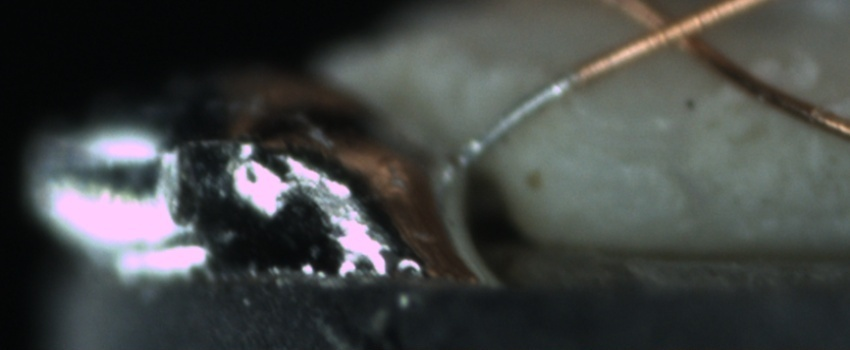CL: (625, 2, 727, 65)
TS: (458, 70, 580, 166)
TTCW: (445, 44, 644, 179)
